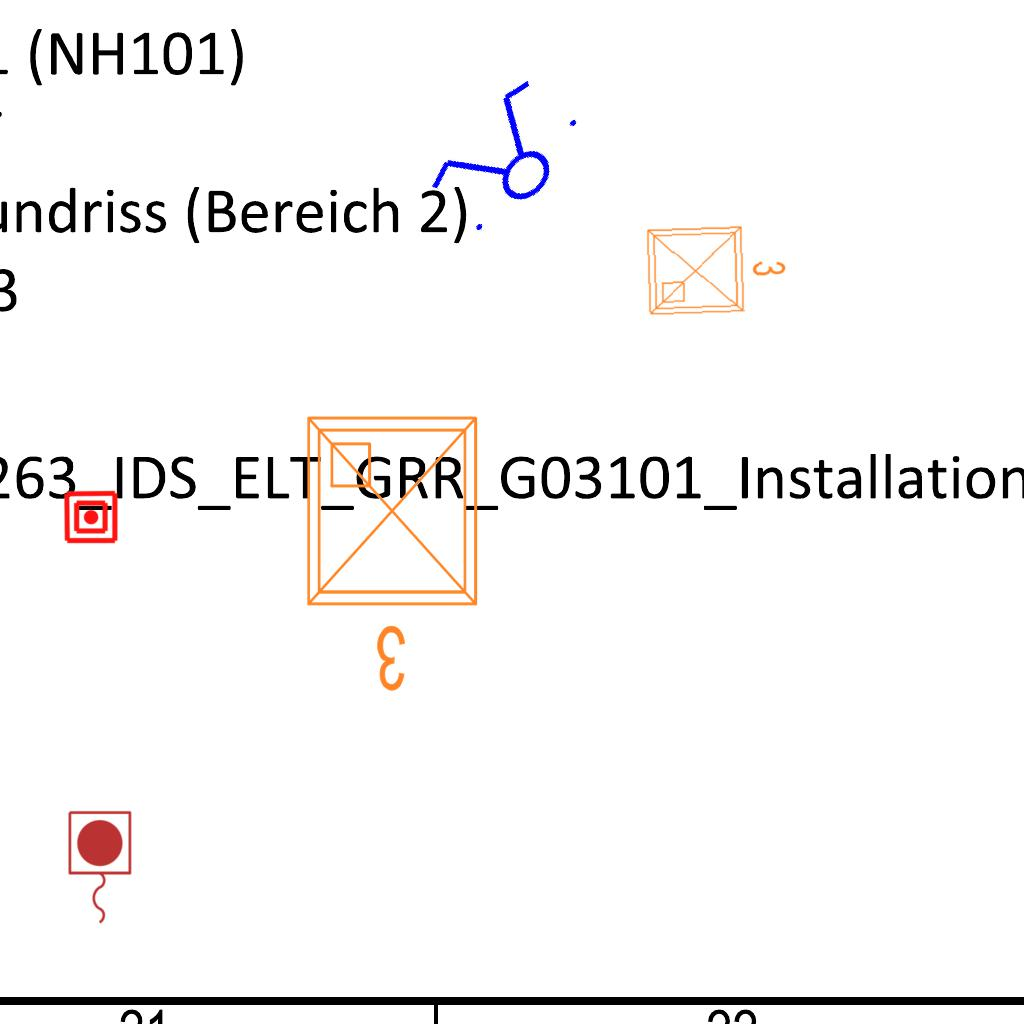Einbaudownlights_LED_Konferenzraeume: (292, 402, 500, 702), (639, 213, 793, 323)
NAM-Nichtautomatischer_Melder: (63, 489, 119, 545)
Serienschalter: (414, 64, 598, 254)
Zugtaster: (63, 807, 135, 929)
